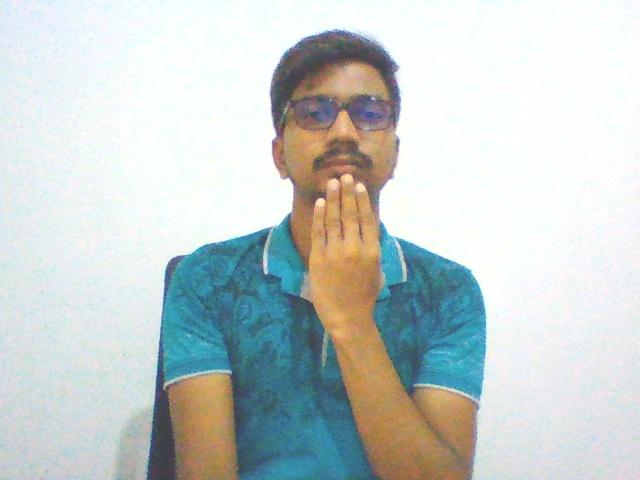mango: (303, 167, 394, 344)
